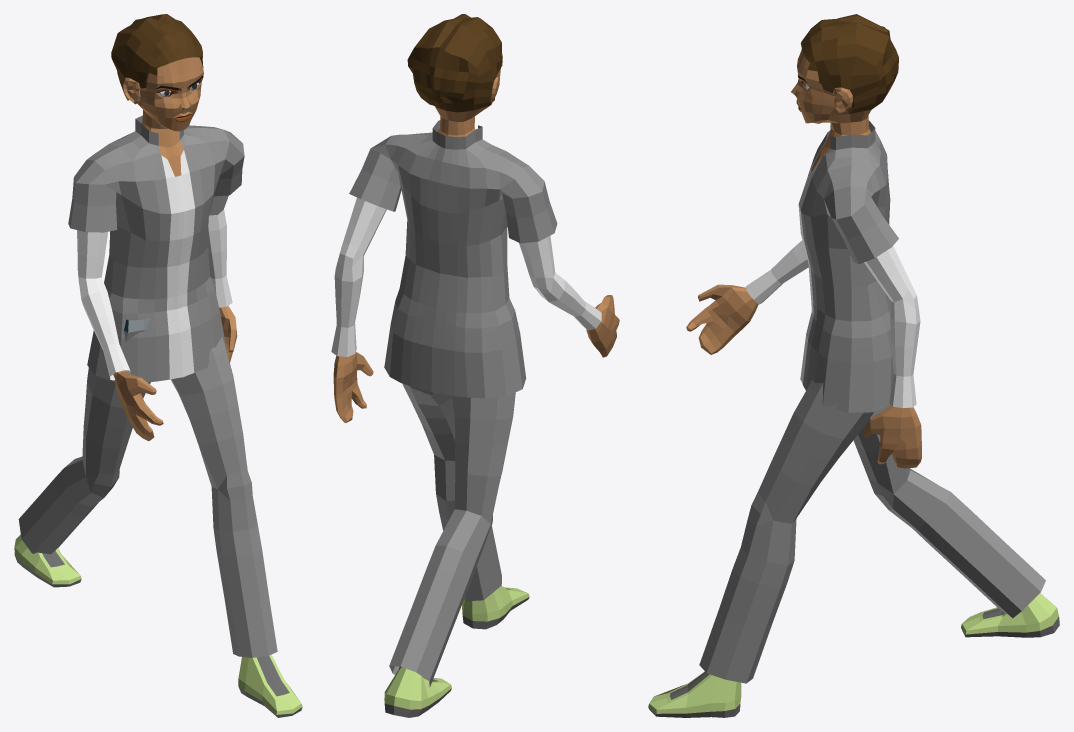
The model's file is StudentMale_Walk.fbx.
3 views of the same model, side by side, from view 1: azimuth 30°, elevation 25°; view 2: azimuth 150°, elevation 25°; view 3: azimuth 270°, elevation 25° (orthographic). The views are drawn at different scales.
Visible parts, largest first — view 1: StudentMale_Walk; view 2: StudentMale_Walk; view 3: StudentMale_Walk.
Part boxes in pixels (bbox=[...]): StudentMale_Walk: bbox=[14, 14, 302, 717]; StudentMale_Walk: bbox=[331, 14, 619, 717]; StudentMale_Walk: bbox=[648, 14, 1059, 717].
Size of the model in its own units: 0.2614 by 0.8342 by 0.4623.
